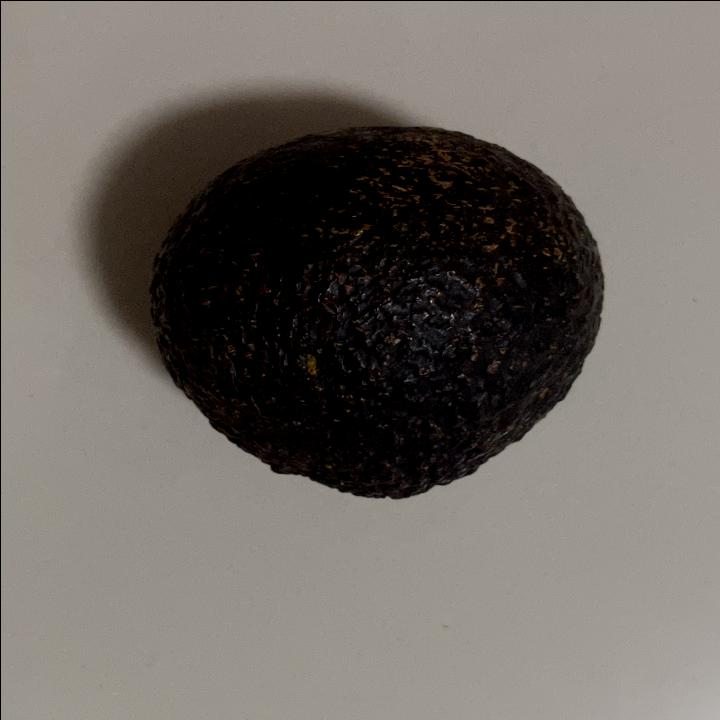Level3: (134, 118, 614, 510)
